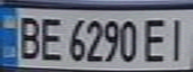0: (118, 16, 142, 64)
2: (84, 16, 106, 64)
6: (63, 16, 87, 63)
9: (103, 17, 121, 63)
B: (12, 12, 45, 61)
E: (139, 15, 172, 64), (36, 14, 66, 62)
I: (163, 14, 193, 63)
